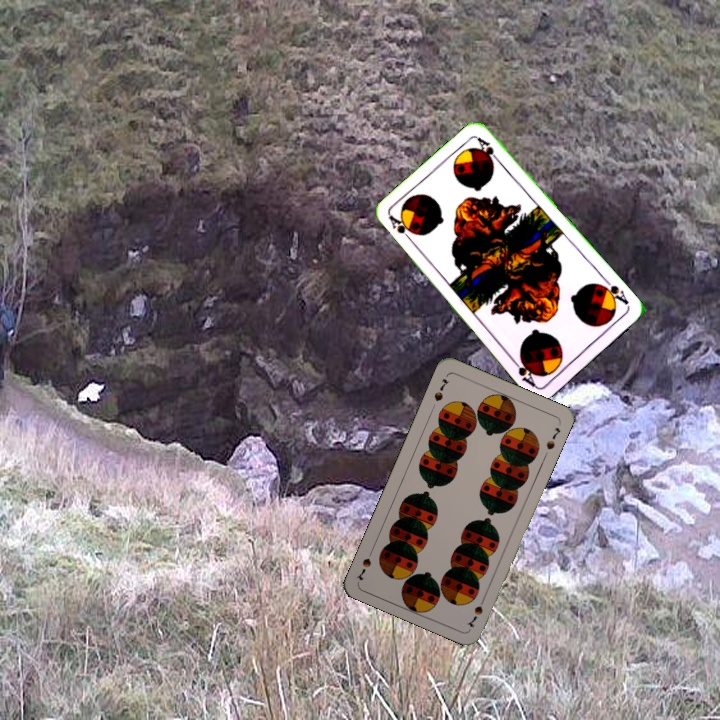S7: (463, 593, 488, 630), (430, 374, 451, 404)
SA: (595, 274, 631, 308), (385, 211, 416, 246)
